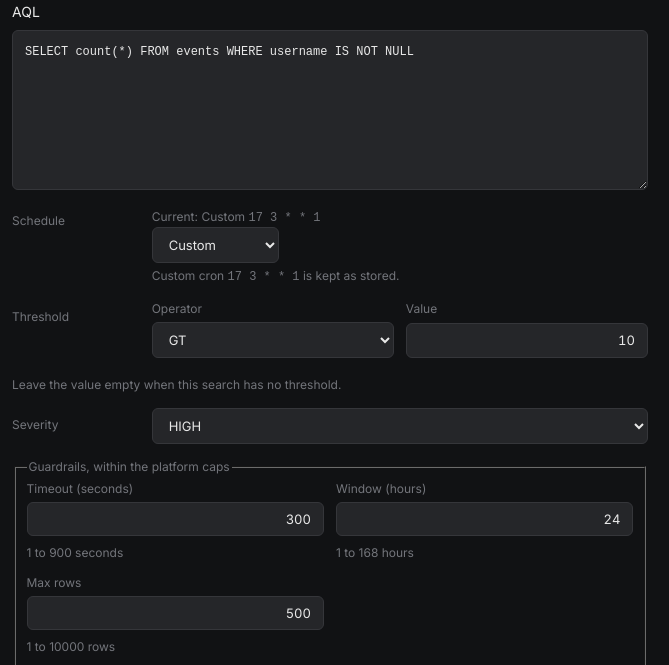
Test: edit search editor › says when a save minted a version and when the query text stayed the same
Replace the text in the text box labelled "AQL" with "SELECT 2" at (330, 110), box [12,30,648,190]
(page scrolled)
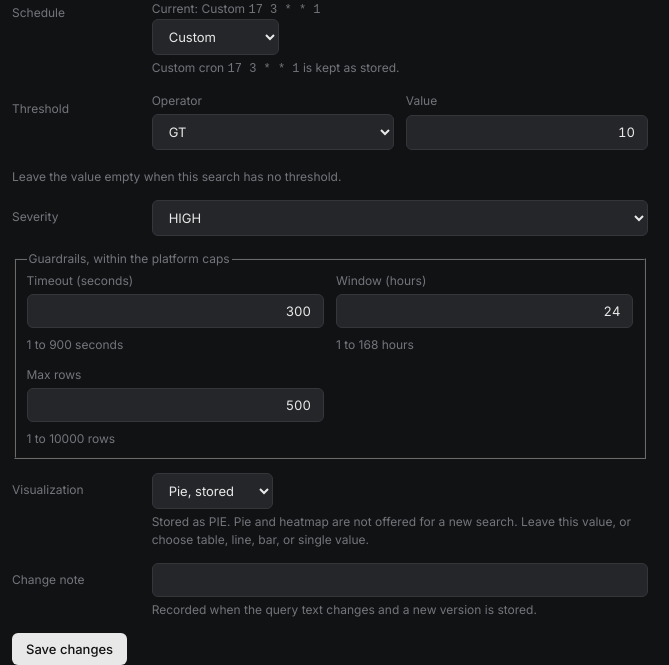
Click the button "Save changes" at (70, 649), box [12,633,127,664]
(page scrolled)
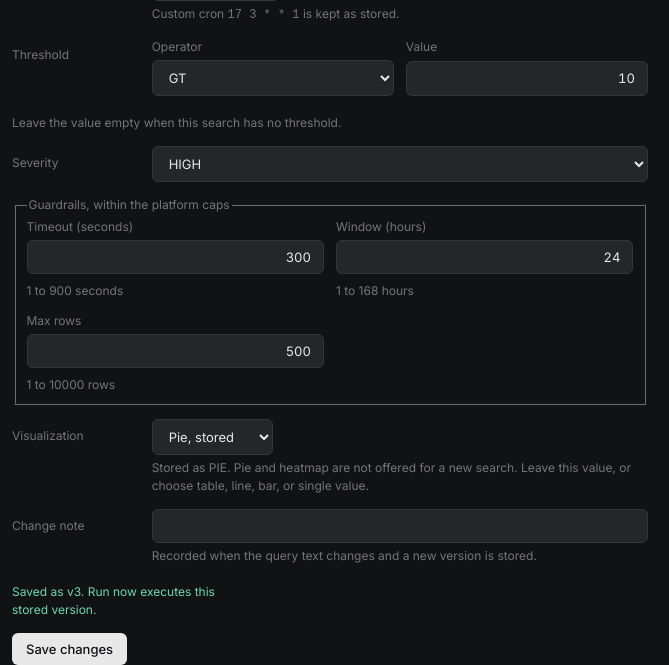
Expected: the text "Saved as v3. Run now executes this stored version." is shown, [12,583,239,619]
Click the button "Save changes" at (70, 649), box [12,633,127,664]
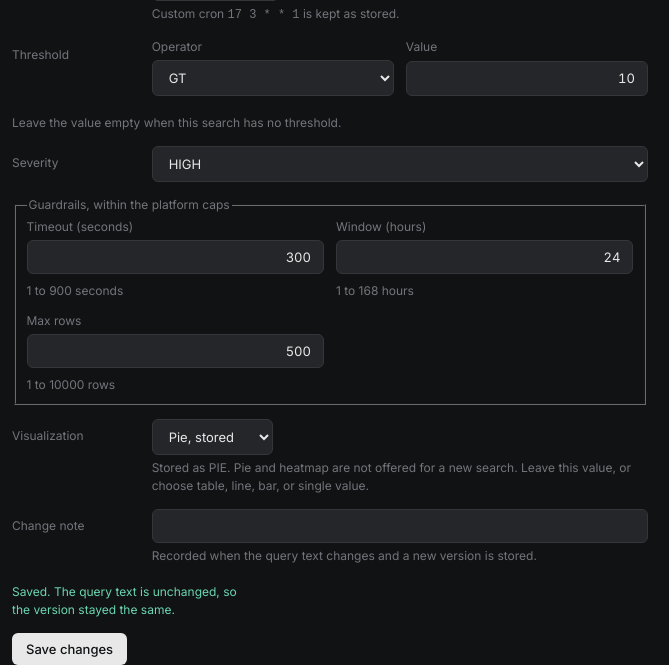
Expected: the text "Saved. The query text is unchanged, so the version stayed the same." is shown, [12,583,239,619]
